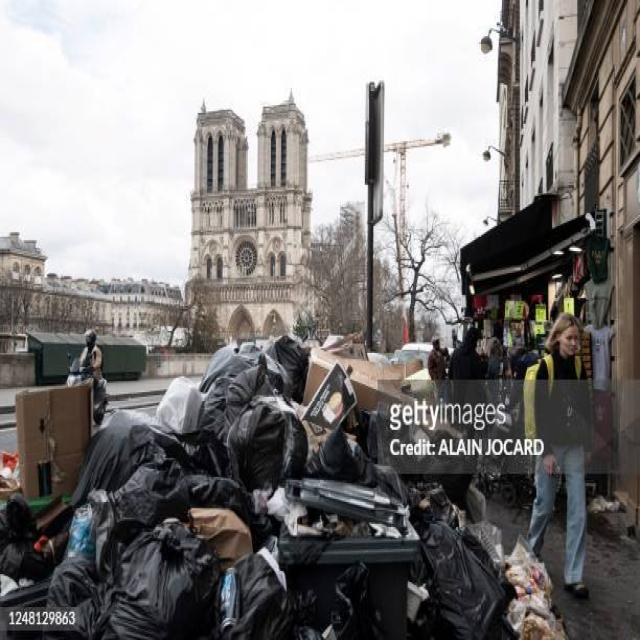cardboard: (17, 384, 69, 502), (337, 359, 414, 414)
trash: (69, 342, 346, 613), (357, 527, 547, 638)
